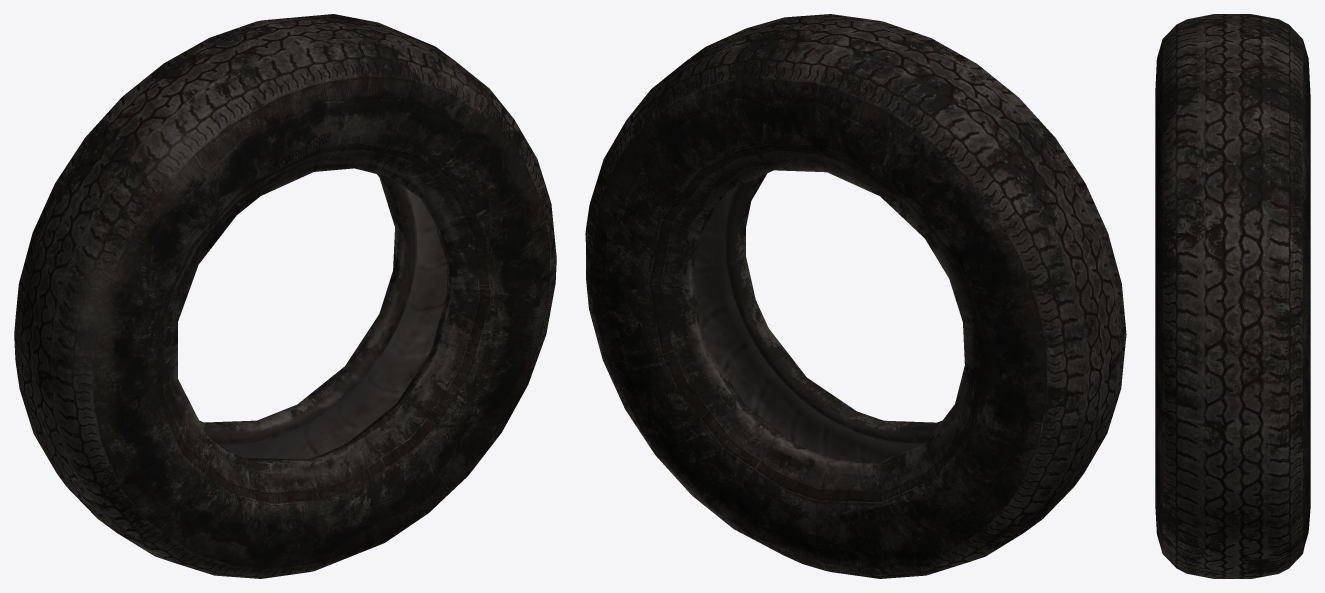
Rendered from ph_old_tyre.glb.
3 renders of one model, left to right at view 1: azimuth 30°, elevation 25°; view 2: azimuth 150°, elevation 25°; view 3: azimuth 270°, elevation 25°, orthographic. The views are drawn at different scales.
Visible parts, largest first — view 1: old_tyre; view 2: old_tyre; view 3: old_tyre.
Boxes of the visible parts, x1,y1,x2,y2 form: old_tyre: [14, 14, 556, 578]; old_tyre: [585, 14, 1126, 578]; old_tyre: [1155, 14, 1310, 578].
Bounding box in the file's own units: 0.6 × 0.6 × 0.165.
Materials: 1 (1 with a texture image).
